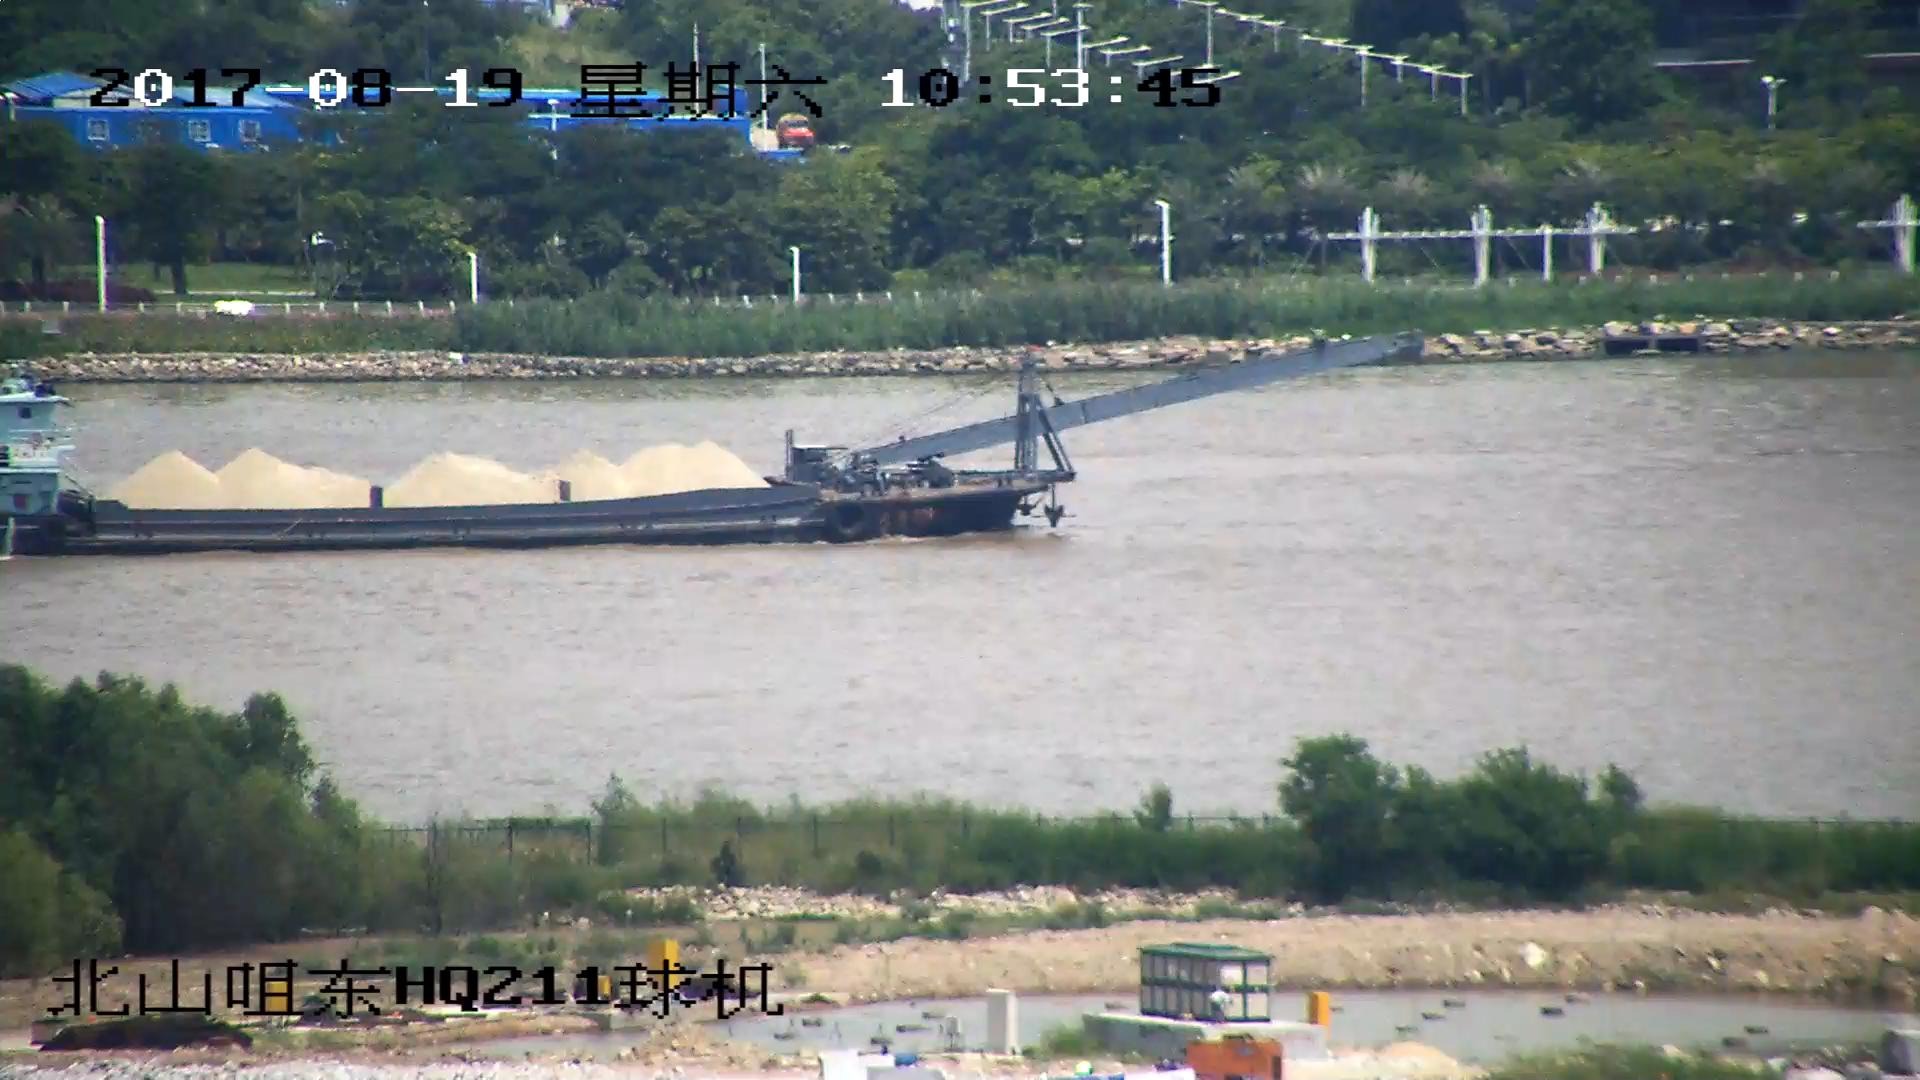ore carrier: (1, 332, 1419, 556)
